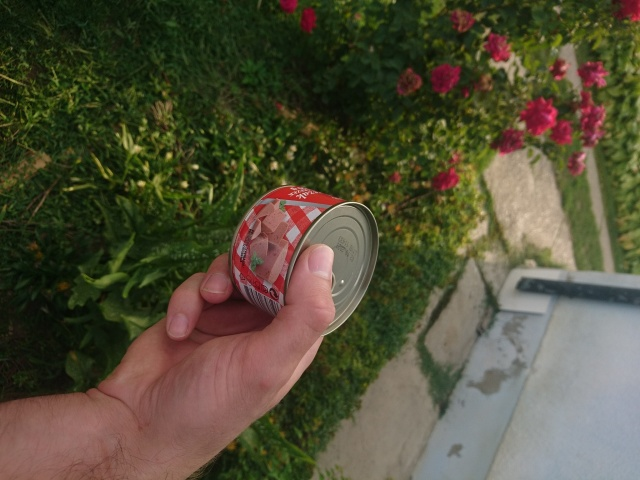Podravka Luncheon Meat 150g: (224, 181, 383, 338)
